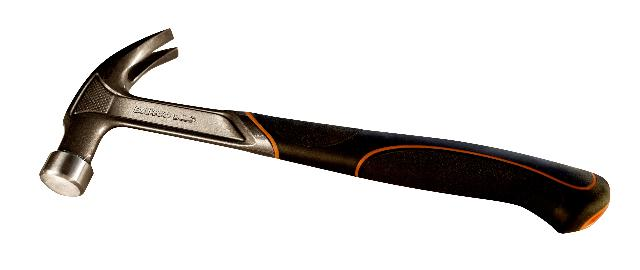hammer: (36, 23, 614, 238)
